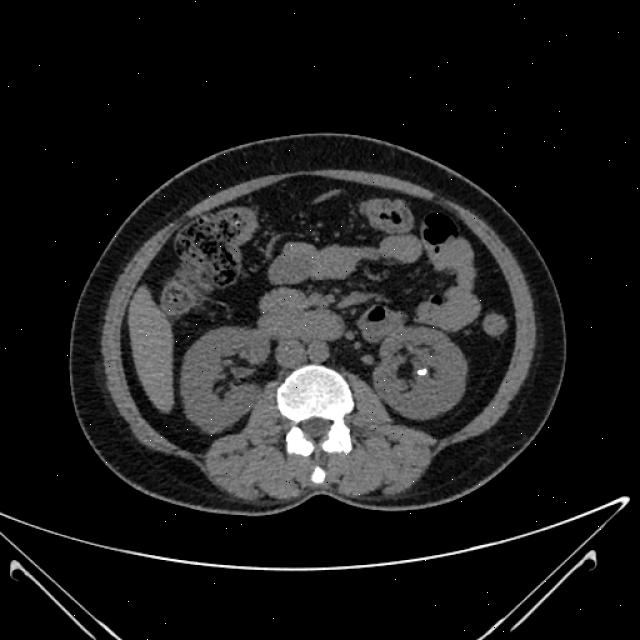kidneystone: (418, 369, 425, 375)
